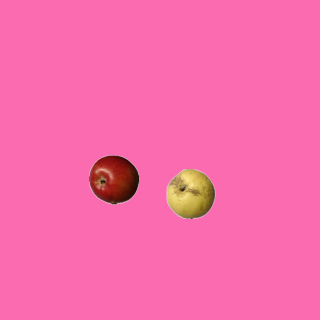Apple Braeburn: (88, 154, 138, 204)
Apple Golden 1: (165, 168, 215, 218)
